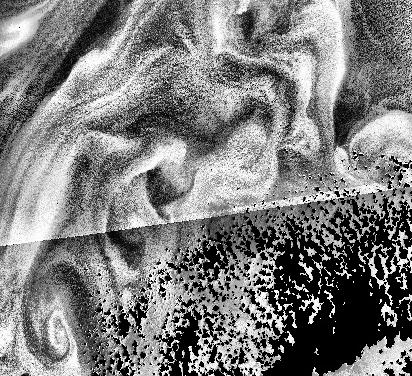CE: (46, 309, 79, 354)
